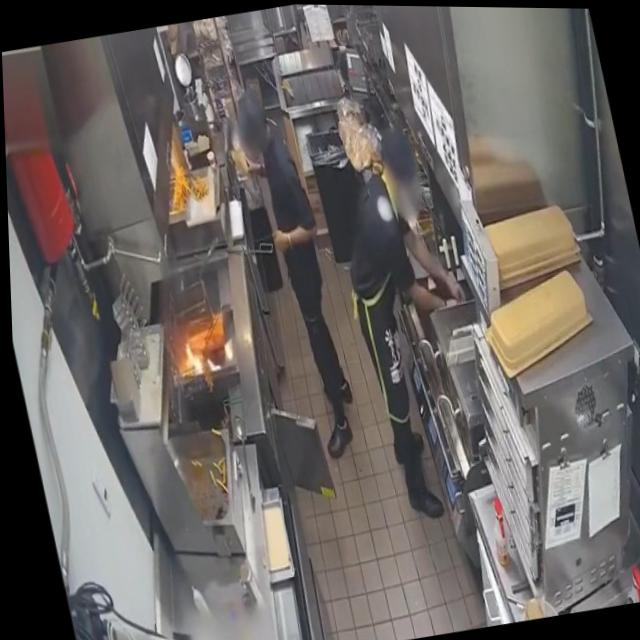fire: (174, 335, 216, 376)
